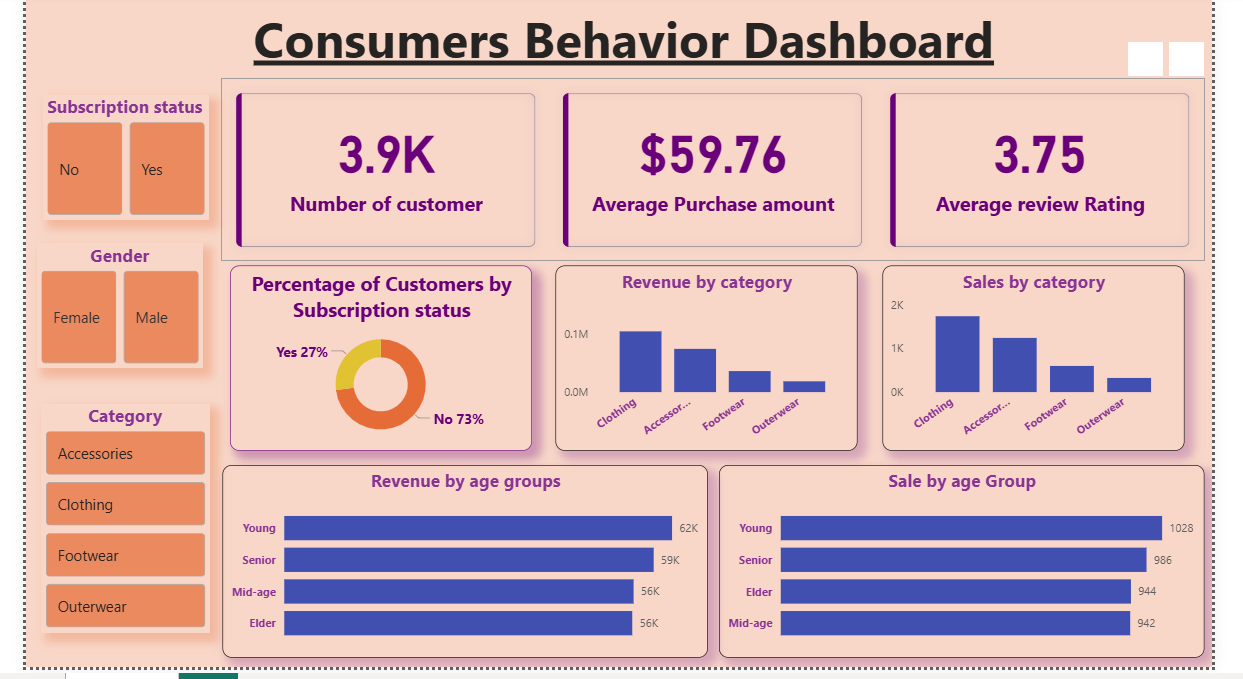

What the dashboard file says about the page in this screenshot:
{"tool":"powerbi","page":{"name":"Page 1","canvas":[1280,720],"ordinal":0},"visuals":[{"type":"cardVisual","fields":{"Data":["consumer_behaviour customer.Number of customer","consumer_behaviour customer.Average Purchase amount","consumer_behaviour customer.Average review Rating"]},"box":[210,84,1062,198],"z":0},{"type":"textbox","box":[12,0,1268,92],"z":2000},{"type":"donutChart","title":"Percentage of Customers by Subscription status","fields":{"Category":["consumer_behaviour customer.subscription_status"],"Y":["CountNonNull(consumer_behaviour customer.customer_id)"]},"box":[220,286,326,200],"z":2002},{"type":"columnChart","title":"Revenue by category","fields":{"Category":["consumer_behaviour customer.category"],"Y":["Sum(consumer_behaviour customer.purchase_amount)"]},"box":[572,286,326,200],"z":2005},{"type":"columnChart","title":"Sales by category","fields":{"Category":["consumer_behaviour customer.category"],"Y":["CountNonNull(consumer_behaviour customer.customer_id)"]},"box":[924,286,326,200],"z":2006},{"type":"advancedSlicerVisual","title":"Subscription status","fields":{"Values":["consumer_behaviour customer.subscription_status"]},"box":[18,102,180,135],"z":2008},{"type":"advancedSlicerVisual","title":"Gender","fields":{"Values":["consumer_behaviour customer.gender"]},"box":[12,262,180,135],"z":2009},{"type":"advancedSlicerVisual","title":"Category ","fields":{"Values":["consumer_behaviour customer.category"]},"box":[16,436,182,248],"z":2010},{"type":"clusteredBarChart","title":"Revenue by age groups","fields":{"Category":["consumer_behaviour customer.Age_group"],"Y":["Sum(consumer_behaviour customer.purchase_amount)"]},"box":[212,502,524,208],"z":2011},{"type":"clusteredBarChart","title":"Sale by age Group","fields":{"Category":["consumer_behaviour customer.Age_group"],"Y":["CountNonNull(consumer_behaviour customer.customer_id)"]},"box":[748,502,524,208],"z":2012}]}

Visuals, with their boxes in screenshot pixels (x1, y1, x2, y2), scaled from the page's 1280x720 canvas onto the 1243x679 screenshot:
cardVisual - consumer_behaviour customer.Number of customer x consumer_behaviour customer.Average Purchase amount: 204:79:1235:266
textbox: 12:0:1242:87
"Percentage of Customers by Subscription status" donutChart: 214:270:530:458
"Revenue by category" columnChart: 555:270:872:458
"Sales by category" columnChart: 897:270:1214:458
"Subscription status" advancedSlicerVisual: 17:96:192:224
"Gender" advancedSlicerVisual: 12:247:186:374
"Category " advancedSlicerVisual: 16:411:192:645
"Revenue by age groups" clusteredBarChart: 206:473:715:670
"Sale by age Group" clusteredBarChart: 726:473:1235:670
